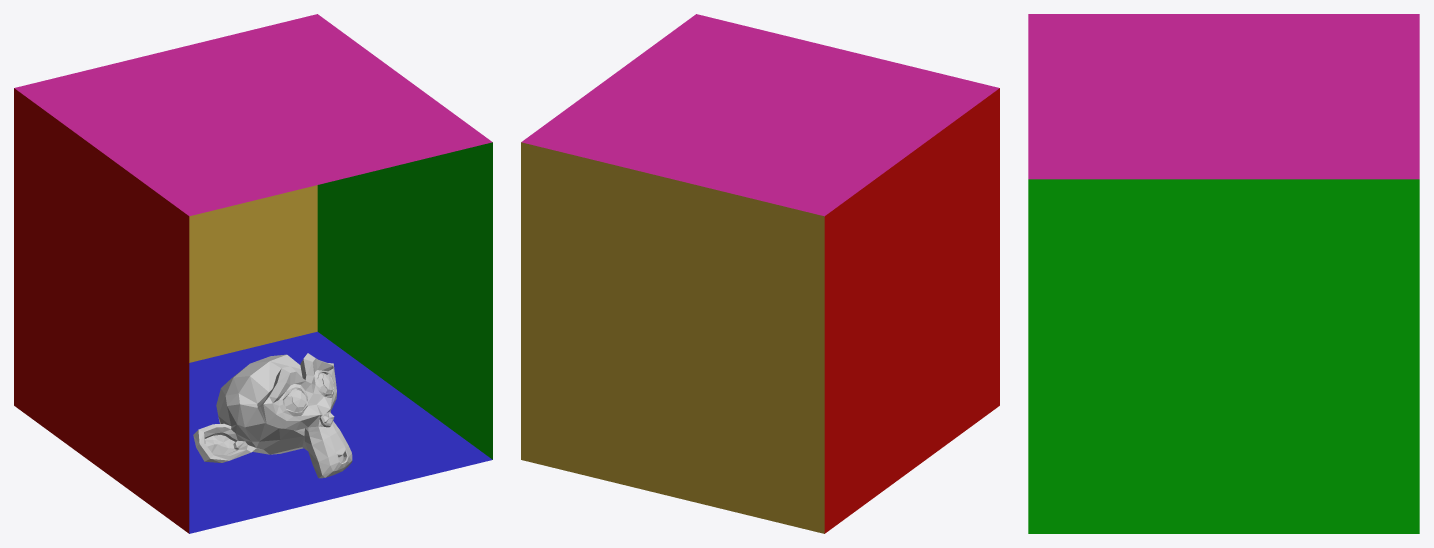
The model's file is cornellbox.obj.
3 views of the same model, side by side, from view 1: azimuth 30°, elevation 25°; view 2: azimuth 150°, elevation 25°; view 3: azimuth 270°, elevation 25° (orthographic). The views are drawn at different scales.
Visible parts, largest first — view 1: Box_Red, Box_Purple, Box_Green, Box_Blue, Box_Yellow, Suzanne_Suzanne; view 2: Box_Yellow, Box_Red, Box_Purple; view 3: Box_Green, Box_Purple.
Part boxes in pixels (<box>): Box_Red: <box>14,88,189,533</box>; Box_Purple: <box>14,14,492,216</box>; Box_Green: <box>317,142,492,459</box>; Box_Blue: <box>189,331,492,533</box>; Box_Yellow: <box>189,185,317,362</box>; Suzanne_Suzanne: <box>193,353,352,478</box>; Box_Yellow: <box>521,142,824,533</box>; Box_Red: <box>824,88,999,533</box>; Box_Purple: <box>521,14,999,216</box>; Box_Green: <box>1028,179,1419,533</box>; Box_Purple: <box>1028,14,1419,179</box>.
Bounding box in the file's own units: 2 × 2.01 × 2.
